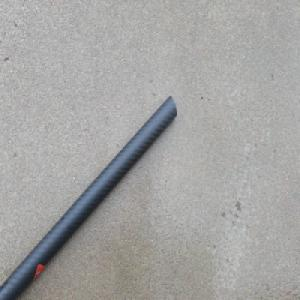LuggagePart: (0, 92, 178, 300)
